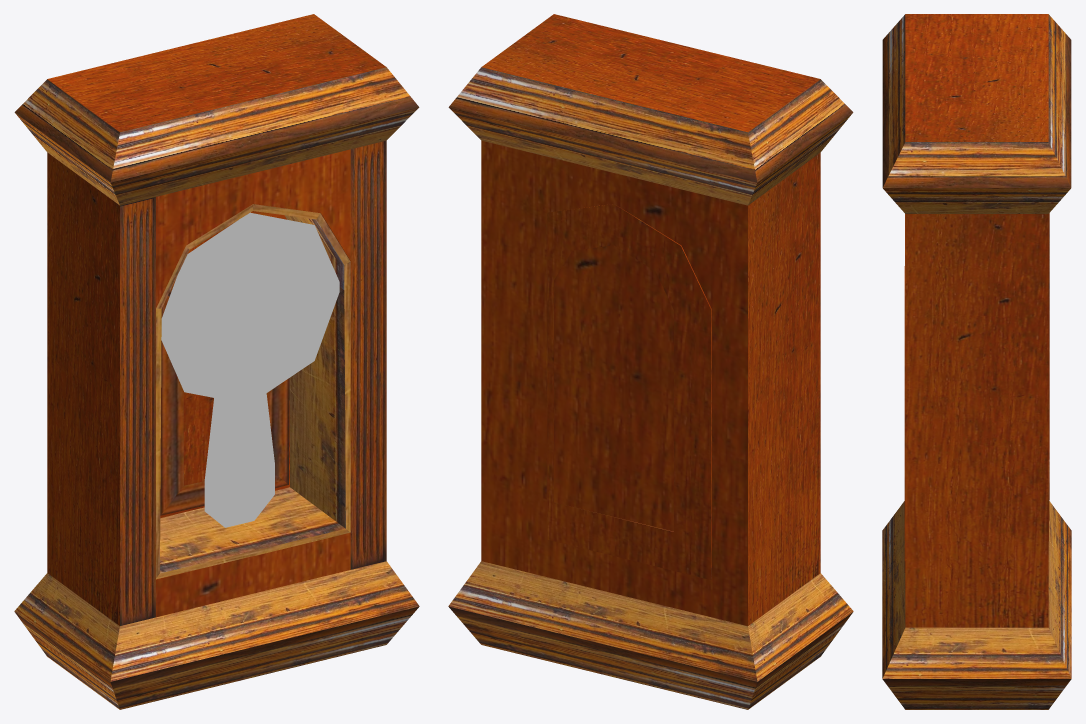
File: Clock.fbx
The picture shows the model from 3 angles, left to right: view 1: azimuth 30°, elevation 25°; view 2: azimuth 150°, elevation 25°; view 3: azimuth 270°, elevation 25°; orthographic projection.
Parts seen in each view (by area): view 1: ClockCase, ClockRotator, ClockFace, ClockPendulum; view 2: ClockCase, ClockRotator; view 3: ClockCase, ClockRotator.
Boxes of the visible parts, bbox=[...] form: ClockCase: bbox=[14, 14, 419, 709]; ClockRotator: bbox=[156, 204, 350, 579]; ClockFace: bbox=[161, 212, 339, 404]; ClockPendulum: bbox=[204, 393, 274, 527]; ClockCase: bbox=[448, 14, 853, 709]; ClockRotator: bbox=[547, 204, 711, 579]; ClockCase: bbox=[882, 14, 1071, 709]; ClockRotator: bbox=[904, 213, 1049, 572].
Size of the model in its own units: 232 by 414 by 125.
Materials: 2 (1 with a texture image).
